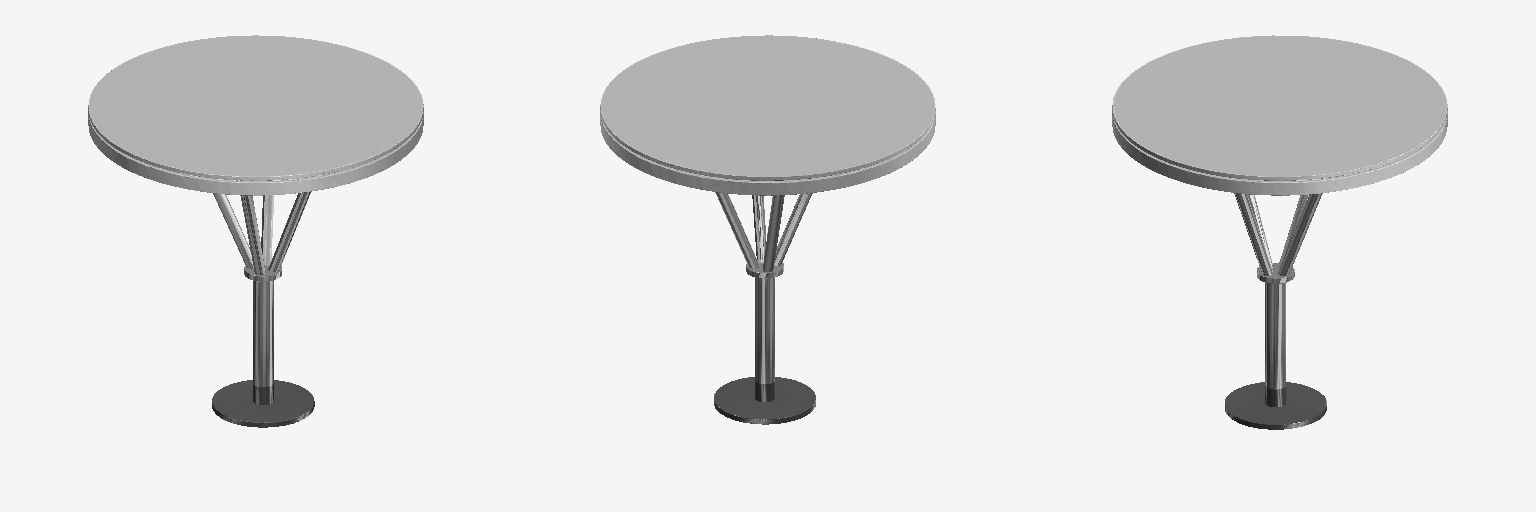
3 renders of one model, left to right at view 1: azimuth 30°, elevation 25°; view 2: azimuth 150°, elevation 25°; view 3: azimuth 270°, elevation 25°, orthographic.
Visible parts, largest first — view 1: solid_002, solid_001, solid_003; view 2: solid_002, solid_001, solid_003; view 3: solid_002, solid_001, solid_003.
Boxes of the visible parts, box(x1,y1,x2,y2) form: solid_002: box(88, 35, 423, 195); solid_001: box(213, 192, 310, 386); solid_003: box(212, 380, 314, 427); solid_002: box(600, 35, 935, 195); solid_001: box(715, 192, 812, 383); solid_003: box(714, 377, 815, 424); solid_002: box(1112, 35, 1447, 195); solid_001: box(1234, 193, 1322, 389); solid_003: box(1225, 382, 1326, 429).
Size of the model in its own units: 0.8126 by 0.8014 by 0.8126.
Materials: 1 (1 with a texture image).